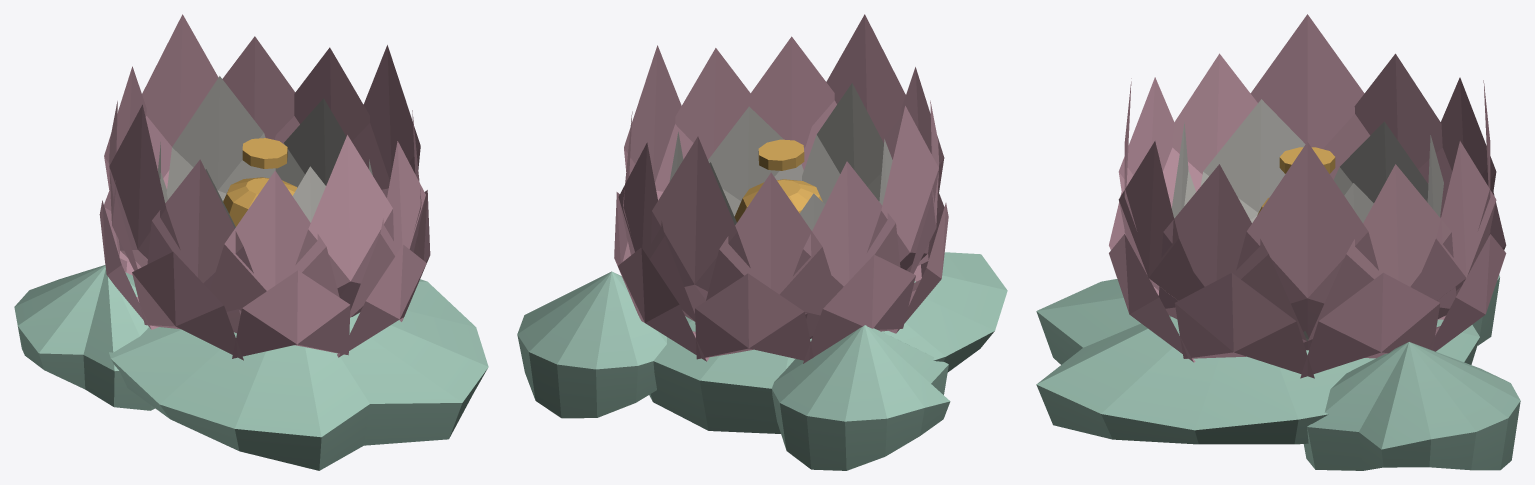
Rendered from lily-lamp.glb.
3 renders of one model, left to right at view 1: azimuth 30°, elevation 25°; view 2: azimuth 150°, elevation 25°; view 3: azimuth 270°, elevation 25°, orthographic. The views are drawn at different scales.
Visible parts, largest first — view 1: pulse_mesh, root_mesh; view 2: pulse_mesh, root_mesh; view 3: pulse_mesh, root_mesh.
Boxes of the visible parts, box(x1,y1,x2,y2) form: pulse_mesh: box(99, 14, 430, 360); root_mesh: box(14, 265, 488, 470); pulse_mesh: box(614, 14, 948, 363); root_mesh: box(517, 252, 1007, 470); pulse_mesh: box(1109, 14, 1506, 378); root_mesh: box(1036, 275, 1520, 470).
Size of the model in its own units: 1.1 by 0.8 by 1.1.
